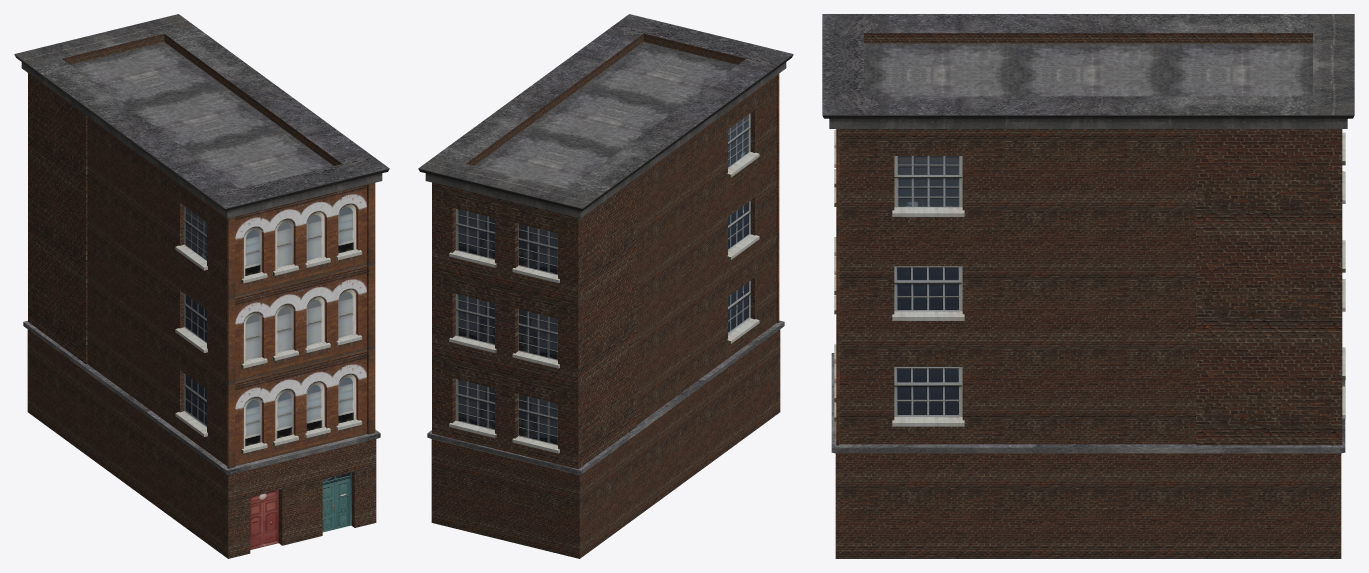
File: Building F.fbx
3 renders of one model, left to right at view 1: azimuth 30°, elevation 25°; view 2: azimuth 150°, elevation 25°; view 3: azimuth 270°, elevation 25°, orthographic. The views are drawn at different scales.
Parts seen in each view (by area): view 1: K_Building_A10_00; view 2: K_Building_A10_00; view 3: K_Building_A10_00.
Part boxes in pixels (x1=…): K_Building_A10_00: x1=14, y1=14, x2=389, y2=558; K_Building_A10_00: x1=418, y1=14, x2=793, y2=558; K_Building_A10_00: x1=822, y1=14, x2=1354, y2=558.
Bounding box in the file's own units: 770 × 1593 × 1712.
Materials: 7 (7 with a texture image).
